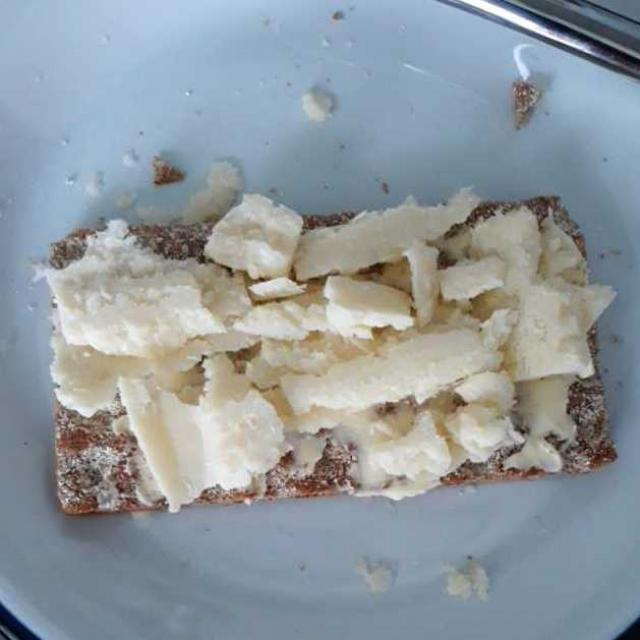parmesan: (60, 186, 618, 512)
rusk-wholemeal: (46, 162, 610, 509)
